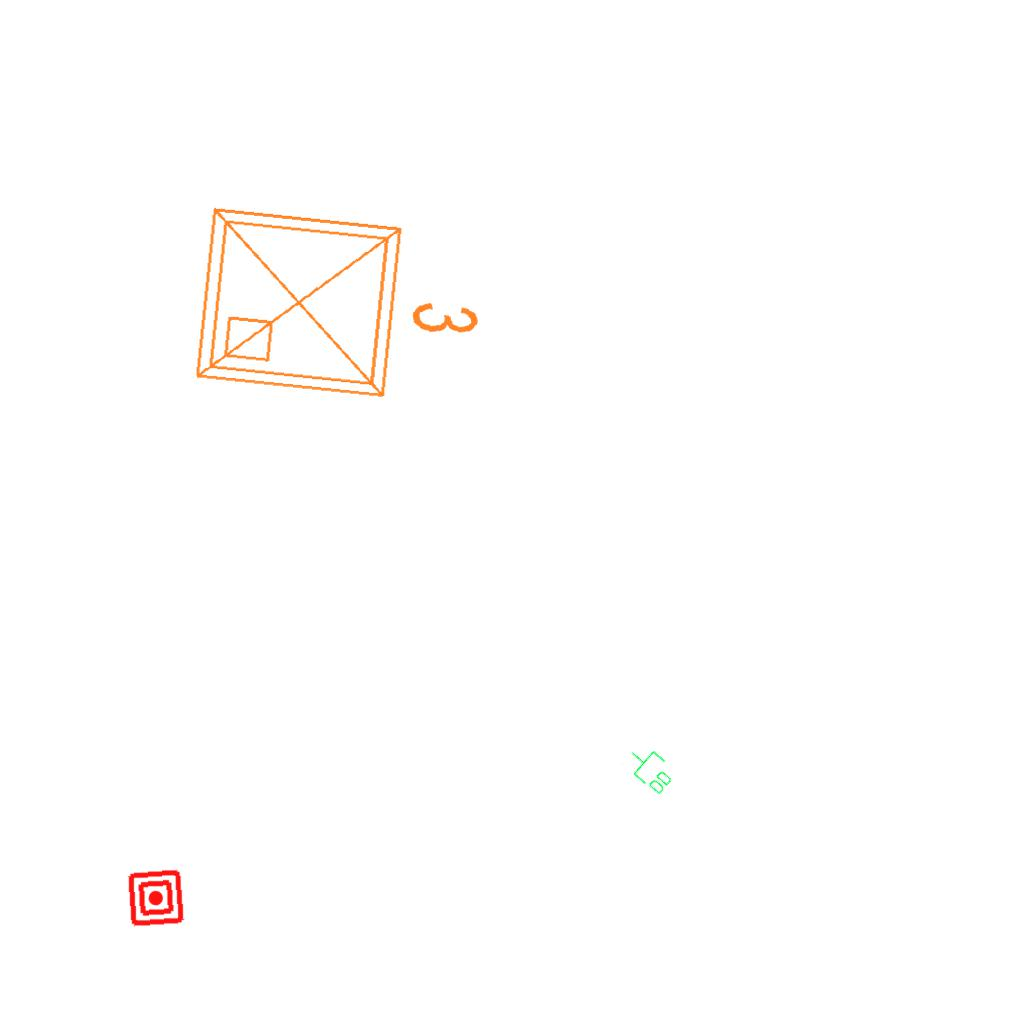Datenanschluss_zweifach: (620, 739, 681, 799)
Einbaudownlights_LED_Konferenzraeume: (179, 183, 501, 423)
NAM-Nichtautomatischer_Melder: (126, 868, 186, 928)
